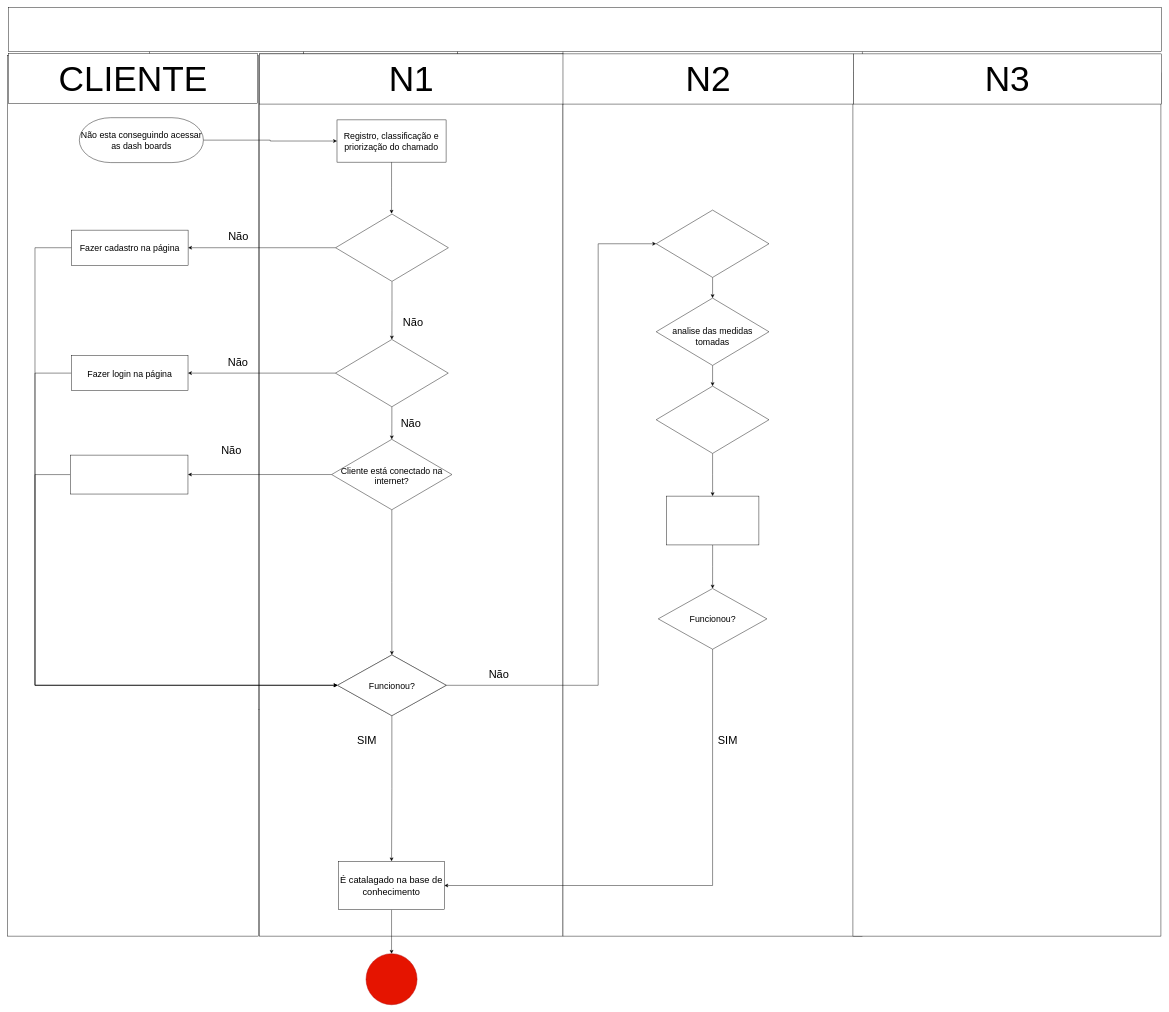
This 1169x1012 diagram has some shape labels left out. Each missing label, with the box of its shape:
analise de ferramentas metodos e aplicações: (656, 386, 769, 453)
analise tecnica do contexto do problema: (656, 210, 769, 277)
Aplica medida para soluconar: (666, 496, 759, 545)
Conectar a uma internet: (70, 455, 188, 494)
FIM: (366, 953, 417, 1005)
INCIDENTE: (8, 7, 1161, 52)
O cliente esta cadastrado?: (335, 214, 448, 281)
O cliente está logado?: (335, 339, 448, 407)
